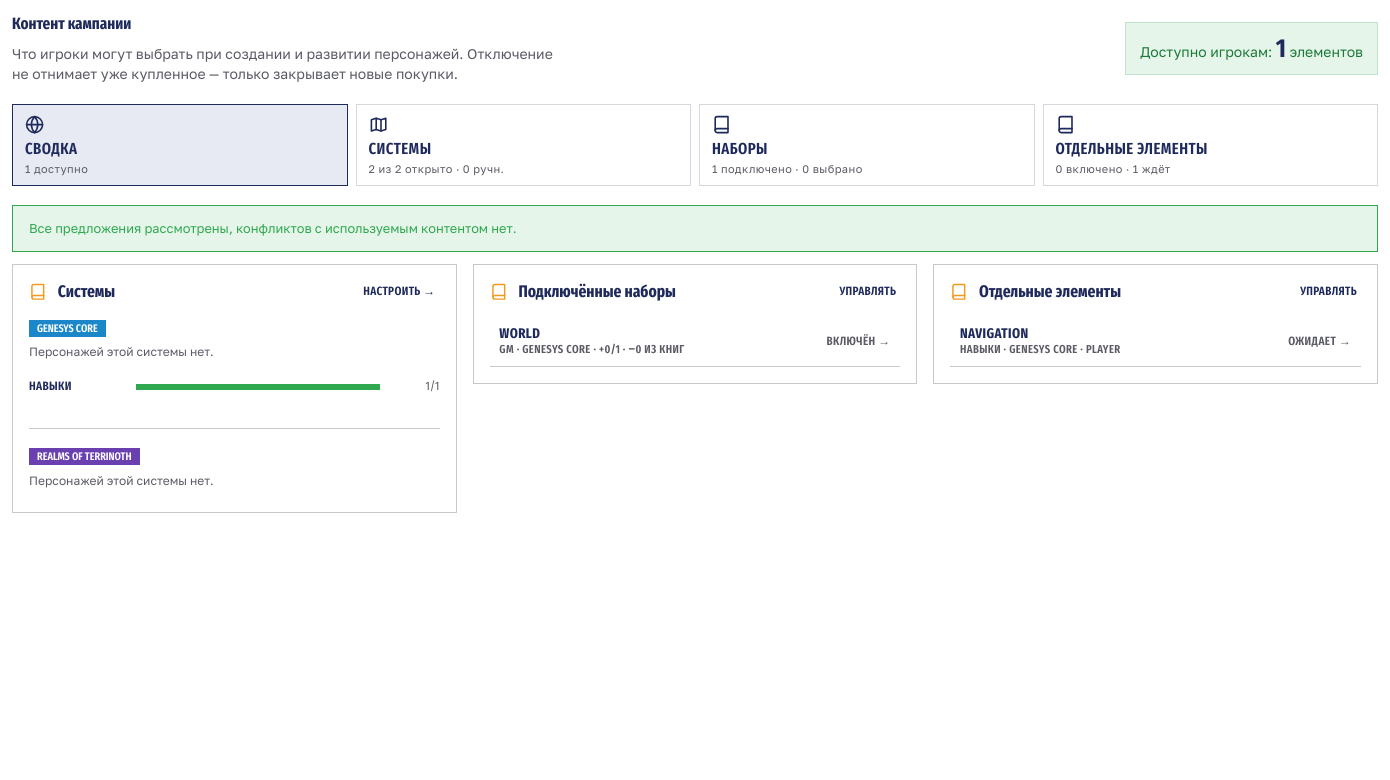
campaign content › shows save-as-pack confirmation after the server preserves availability
Click the button "Системы 2 из 2 открыто · 0 ручн.": (400, 148) [356,104,691,186]
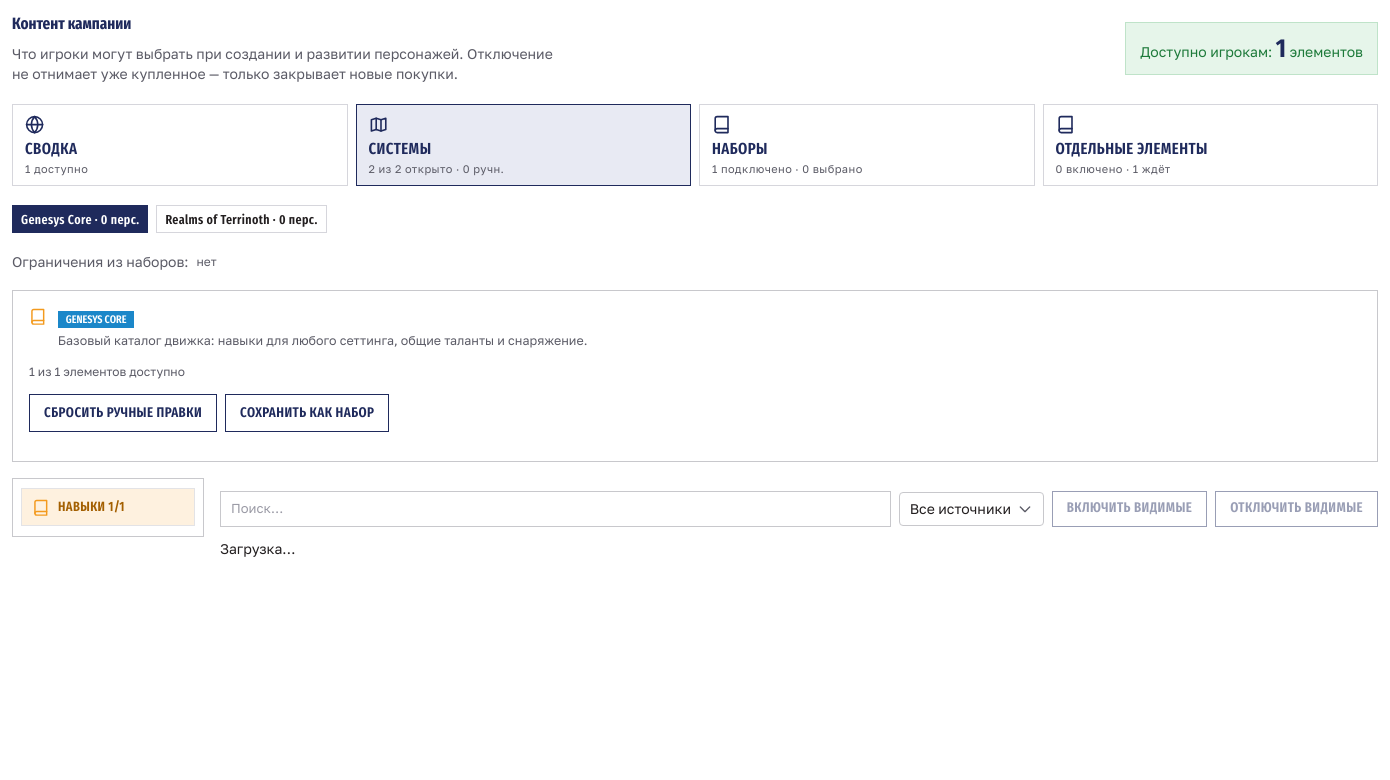
Click the button "Сохранить как набор": (307, 413) [225,394,389,432]
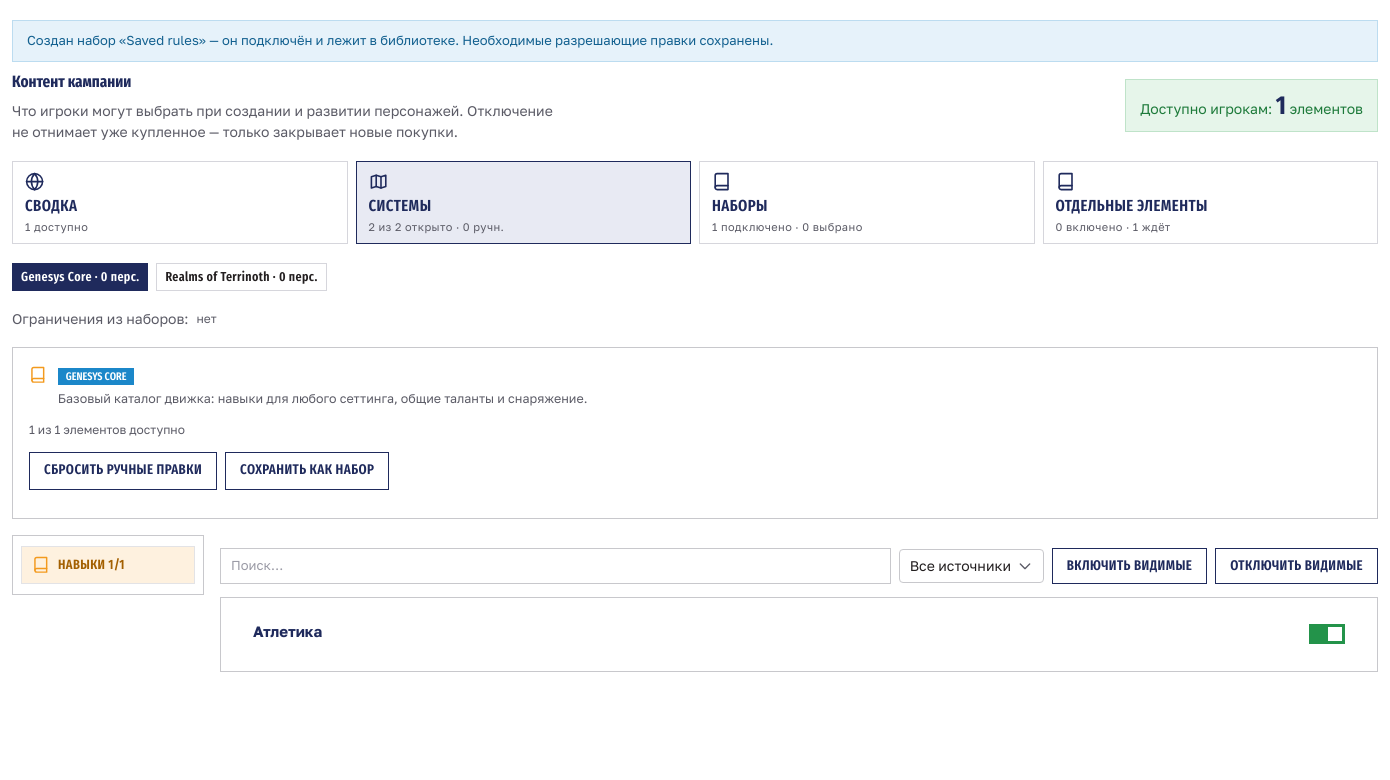
Now the message shows "разрешающие правки сохранены", box [27,32,773,48]
